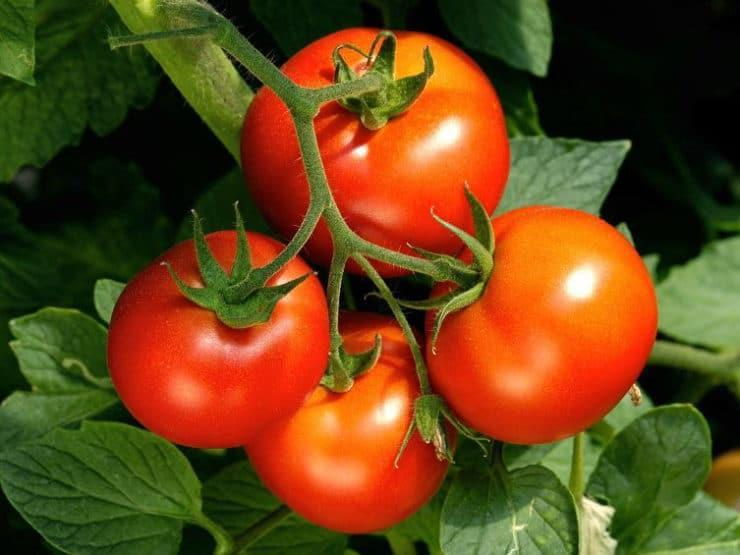healthy-tomato: (245, 29, 513, 271), (427, 208, 660, 449), (108, 227, 334, 452), (247, 316, 458, 538)
